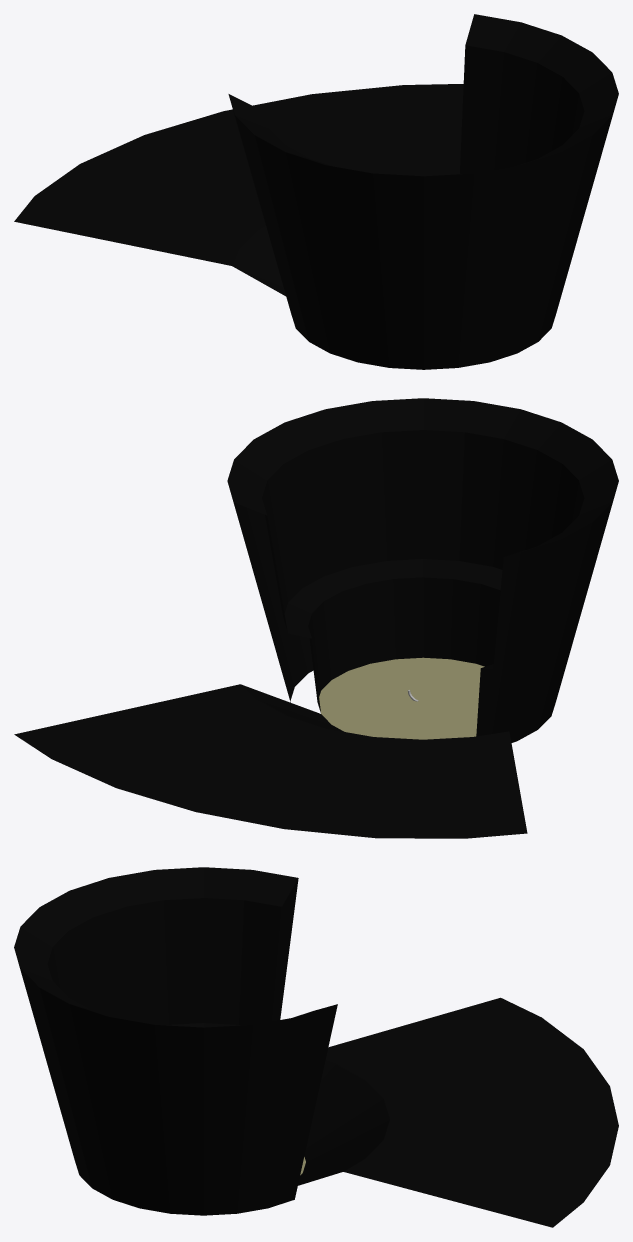
The model's file is MiniStage3.fbx.
3 renders of one model, top to bottom at view 1: azimuth 30°, elevation 25°; view 2: azimuth 150°, elevation 25°; view 3: azimuth 270°, elevation 25°, orthographic. The views are drawn at different scales.
Parts seen in each view (by area): view 1: pDisc2; view 2: pDisc2; view 3: pDisc2.
Boxes of the visible parts, x1,y1,x2,y2 form: pDisc2: (14,14,618,369); pDisc2: (14,398,618,838); pDisc2: (14,867,618,1227).
Bounding box in the file's own units: 11.15 × 4.87 × 12.39.
